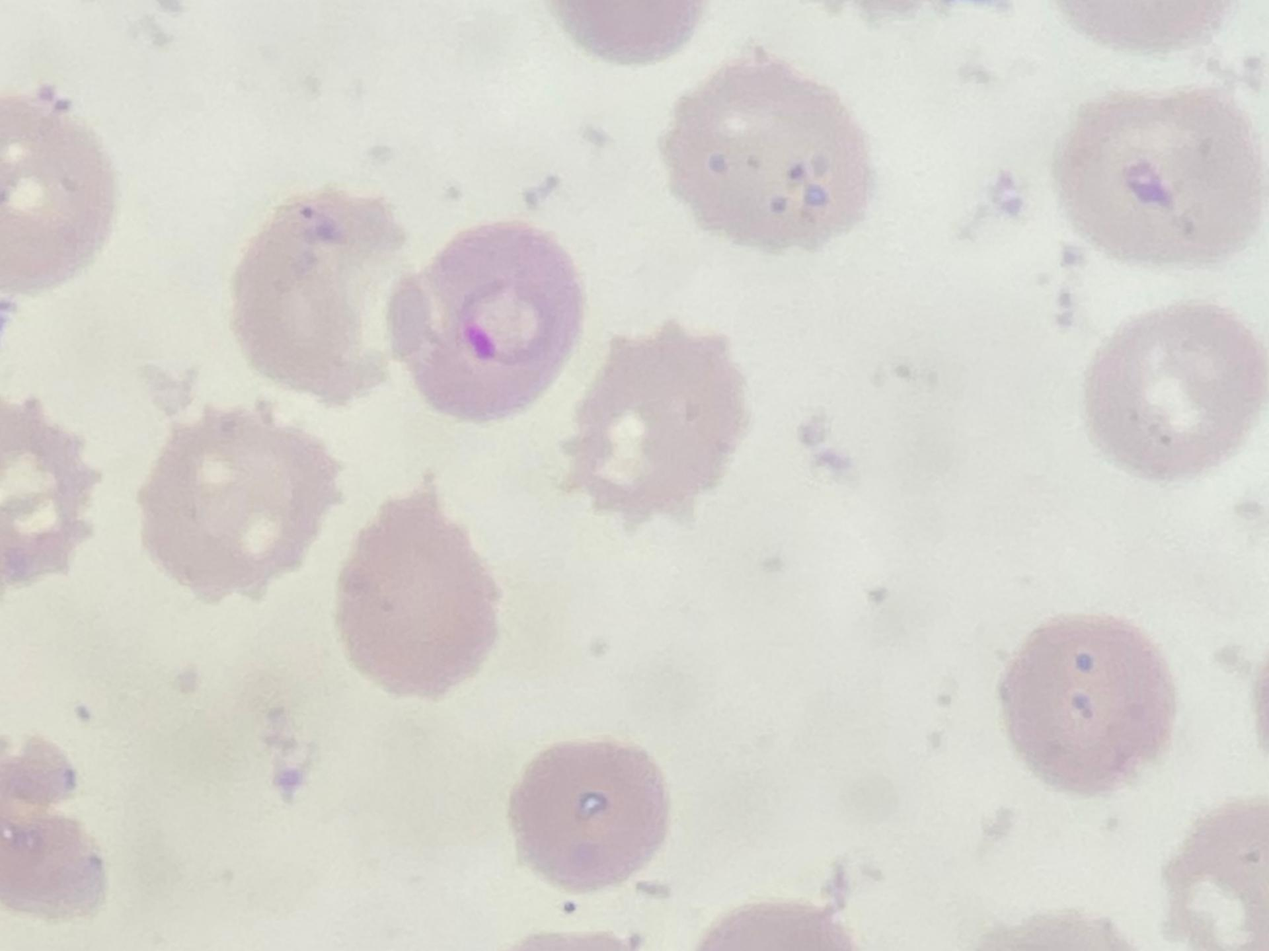Infected: (383, 219, 585, 420)
Uninfected: (661, 49, 872, 252), (1058, 89, 1269, 280), (238, 190, 422, 409), (139, 410, 347, 603), (333, 470, 504, 703), (562, 322, 752, 530), (998, 613, 1187, 794), (1084, 300, 1269, 483), (509, 734, 670, 893)
